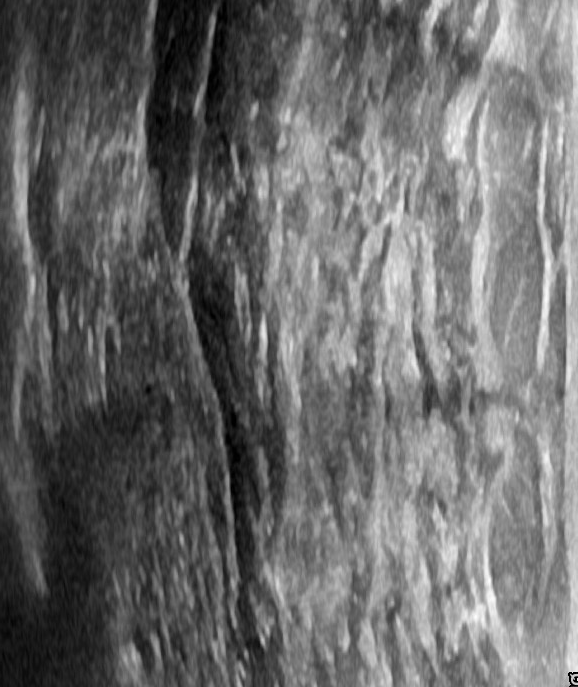Normal: (21, 1, 559, 681)
